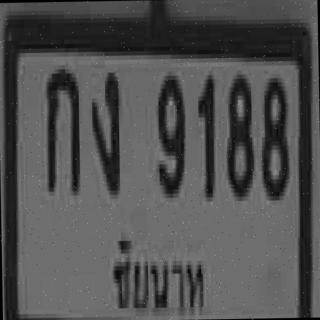A01: (43, 65, 78, 192)
A07: (90, 68, 120, 191)
N01: (196, 71, 214, 197)
N08: (224, 70, 252, 197), (259, 74, 287, 196)
N09: (154, 71, 185, 194)
P08: (105, 222, 206, 320)
